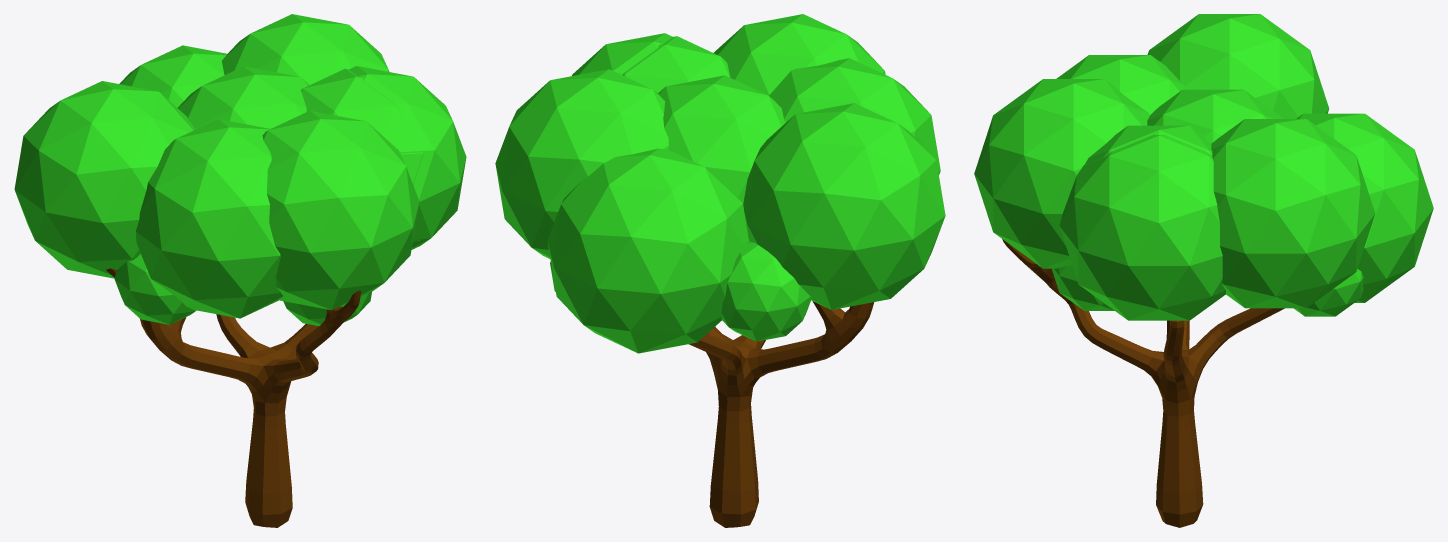
Rendered from tree.fbx.
3 renders of one model, left to right at view 1: azimuth 30°, elevation 25°; view 2: azimuth 150°, elevation 25°; view 3: azimuth 270°, elevation 25°, orthographic. The views are drawn at different scales.
Parts seen in each view (by area): view 1: Icosphere, Plane; view 2: Icosphere, Plane; view 3: Icosphere, Plane.
Part boxes in pixels (x1,y1,x2,y2): Icosphere: [14, 14, 466, 325]; Plane: [106, 268, 361, 527]; Icosphere: [495, 14, 945, 353]; Plane: [689, 301, 874, 527]; Icosphere: [974, 14, 1433, 320]; Plane: [1002, 239, 1284, 527].
Bounding box in the file's own units: 880 × 986 × 923.
